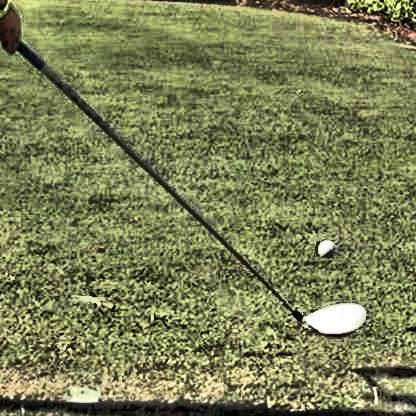golfball: (314, 237, 335, 257)
